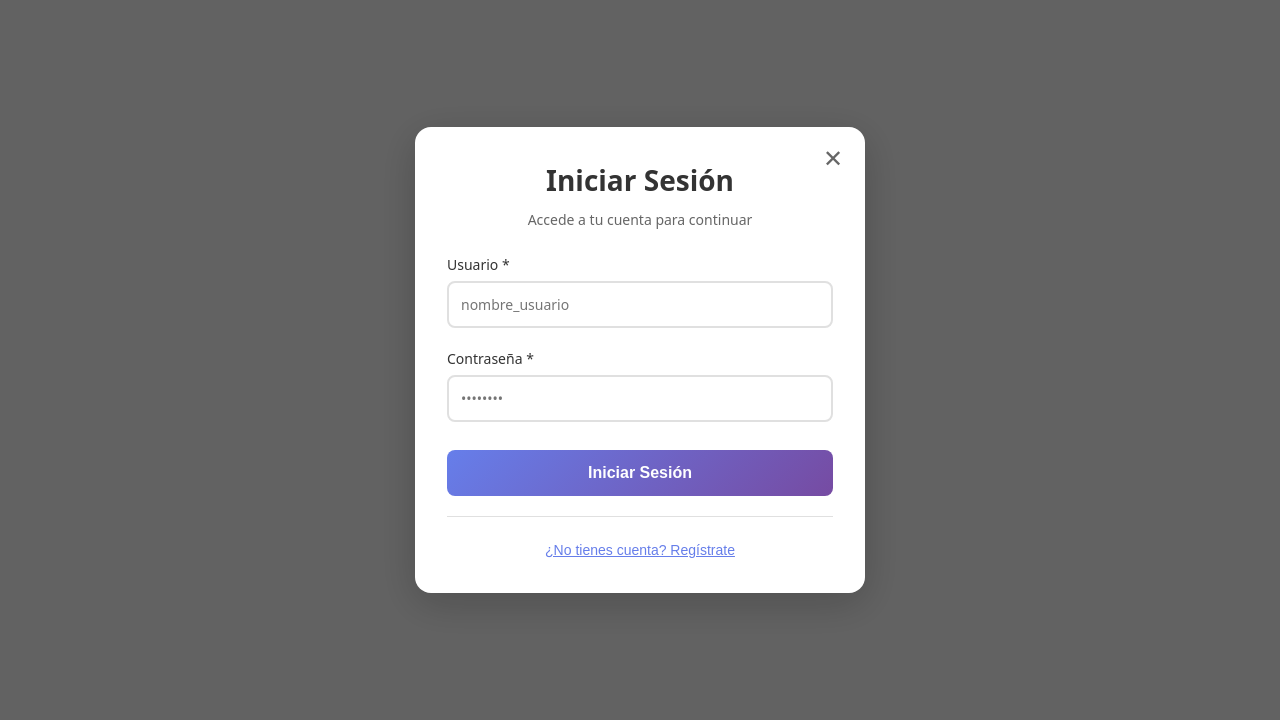
Test: LoginPopup › switches back to login mode from register mode
What coordinates should you click on to do the following:
click the button "¿No tienes cuenta? Regístrate"
I would click on:
 (640, 550)
Its box is [539,541,741,559].
(page scrolled)
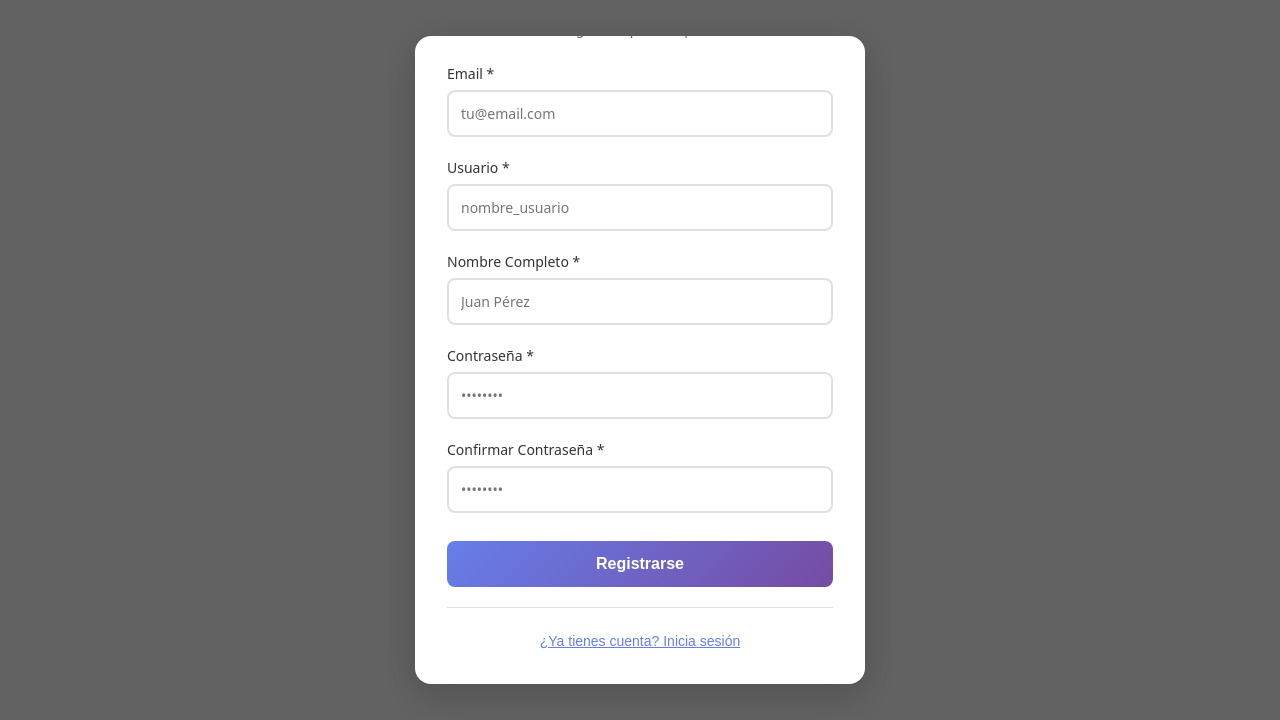
What coordinates should you click on to do the following:
click the button "¿Ya tienes cuenta? Inicia sesión"
I would click on:
 (640, 641)
Its box is [534,632,746,650].
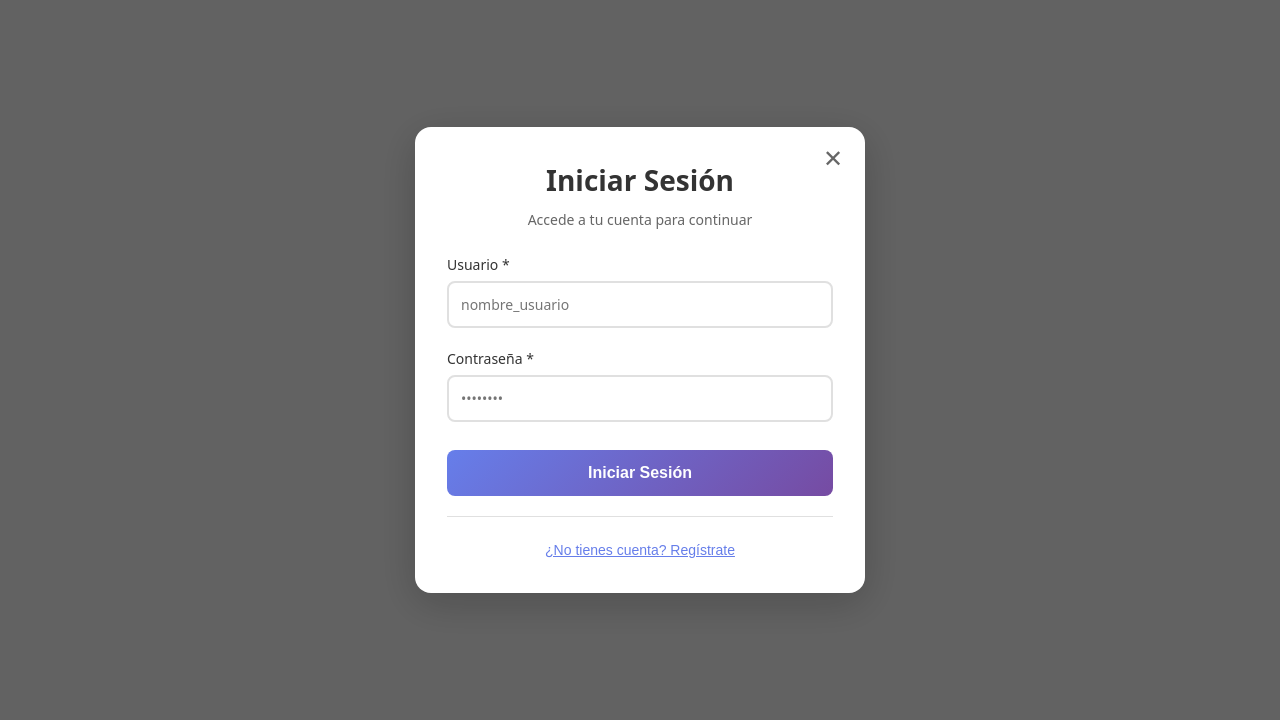
Expected: the heading "Iniciar Sesión" is shown, [546,161,734,199]
